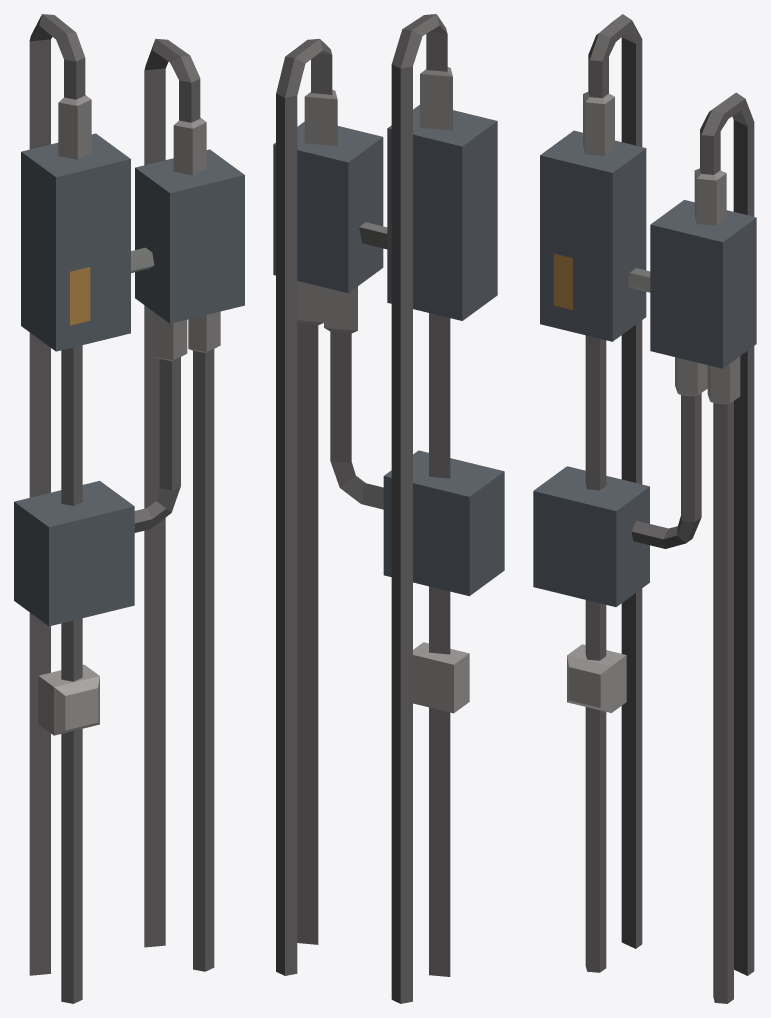
The model's file is SM_Prop_PowerBoxes_03.obj.
The picture shows the model from 3 angles, left to right: view 1: azimuth 30°, elevation 25°; view 2: azimuth 150°, elevation 25°; view 3: azimuth 330°, elevation 25°; orthographic projection. The views are drawn at different scales.
Visible parts, largest first — view 1: SM_Prop_PowerBoxes_03_0; view 2: SM_Prop_PowerBoxes_03_0; view 3: SM_Prop_PowerBoxes_03_0.
Boxes of the visible parts, x1,y1,x2,y2 form: SM_Prop_PowerBoxes_03_0: (14,14,244,1003); SM_Prop_PowerBoxes_03_0: (273,14,504,1003); SM_Prop_PowerBoxes_03_0: (533,14,756,1003).
Bounding box in the file's own units: 0.4684 × 2.2 × 0.2535.
Materials: 1 (1 with a texture image).
